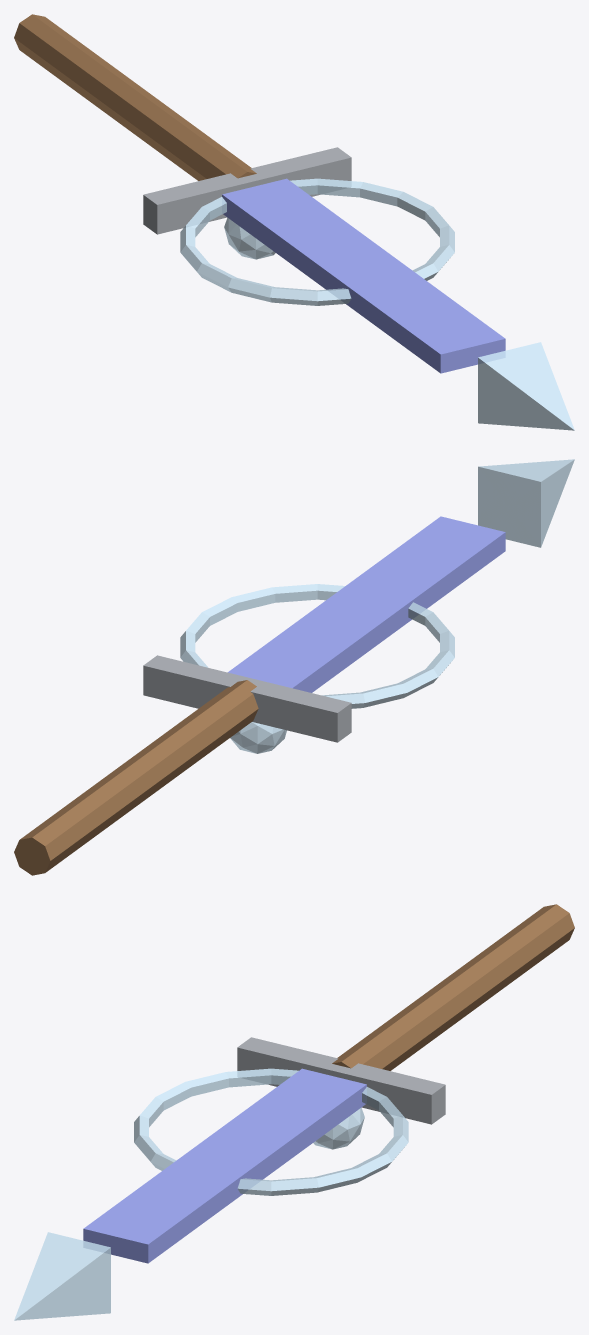
File: 03_magic_weapon_upgrade.glb
3 renders of one model, top to bottom at view 1: azimuth 30°, elevation 25°; view 2: azimuth 150°, elevation 25°; view 3: azimuth 330°, elevation 25°, orthographic.
Visible parts, largest first — view 1: enchanted_blade_or_focus, weapon_handle, rune_orbit, weapon_guard, weapon_tip, gem_socket; view 2: enchanted_blade_or_focus, weapon_handle, weapon_guard, weapon_tip, rune_orbit, gem_socket; view 3: enchanted_blade_or_focus, weapon_handle, rune_orbit, weapon_guard, weapon_tip, gem_socket.
Part boxes in pixels (<box>): enchanted_blade_or_focus: <box>222,178,505,373</box>; weapon_handle: <box>14,14,256,180</box>; rune_orbit: <box>180,178,454,305</box>; weapon_guard: <box>143,147,351,234</box>; weapon_tip: <box>478,342,574,430</box>; gem_socket: <box>224,217,275,259</box>; enchanted_blade_or_focus: <box>228,516,505,692</box>; weapon_handle: <box>14,680,258,875</box>; weapon_guard: <box>143,655,351,742</box>; weapon_tip: <box>478,459,574,547</box>; rune_orbit: <box>180,584,454,708</box>; gem_socket: <box>230,722,286,753</box>; enchanted_blade_or_focus: <box>83,1068,366,1263</box>; weapon_handle: <box>332,904,574,1070</box>; rune_orbit: <box>134,1068,408,1195</box>; weapon_guard: <box>237,1037,445,1124</box>; weapon_tip: <box>14,1232,110,1320</box>; gem_socket: <box>313,1107,364,1149</box>.
Bounding box in the file's own units: 0.596 × 0.2178 × 2.32.
